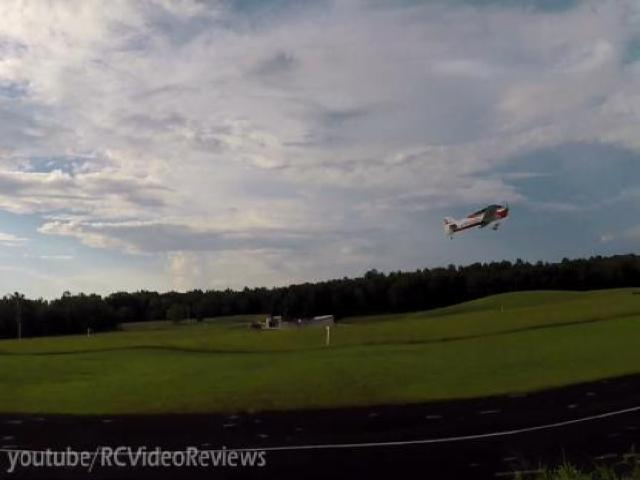uav: (438, 197, 514, 247)
